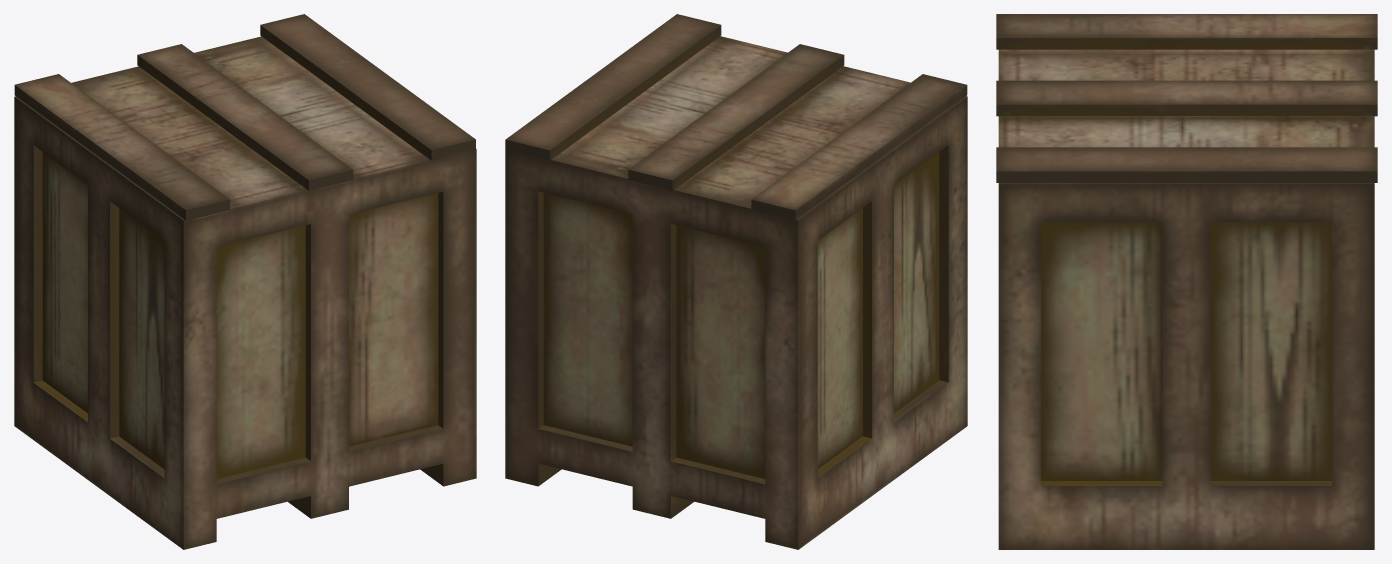
File: Large wooden crate.fbx
The picture shows the model from 3 angles, left to right: view 1: azimuth 30°, elevation 25°; view 2: azimuth 150°, elevation 25°; view 3: azimuth 270°, elevation 25°; orthographic projection. The views are drawn at different scales.
Visible parts, largest first — view 1: Cube; view 2: Cube; view 3: Cube.
Boxes of the visible parts, bbox=[...] form: Cube: bbox=[14, 14, 476, 549]; Cube: bbox=[505, 14, 967, 549]; Cube: bbox=[996, 14, 1377, 549].
Size of the model in its own units: 110 by 122 by 111.
